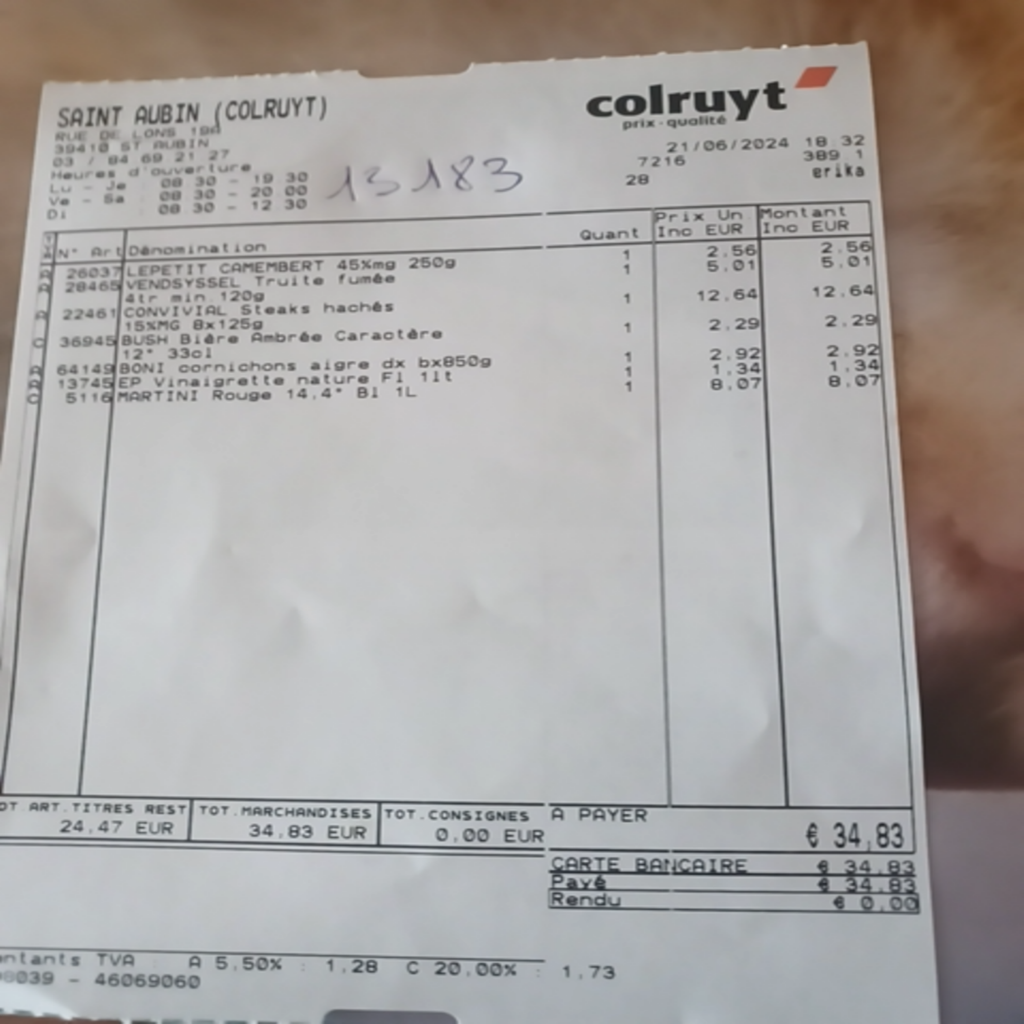recipt: (4, 36, 940, 1014)
